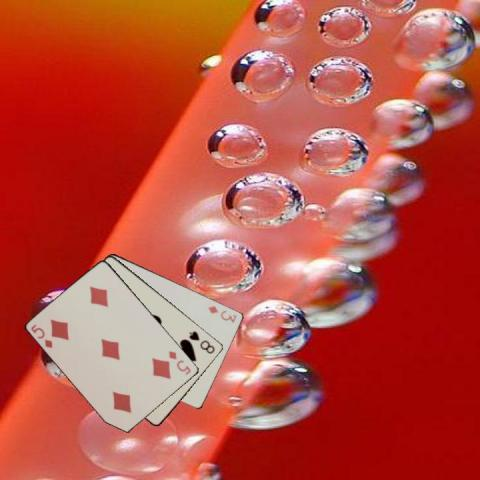3d: (205, 303, 238, 324)
5d: (166, 347, 193, 376), (28, 322, 54, 350)
8s: (186, 328, 217, 355)
